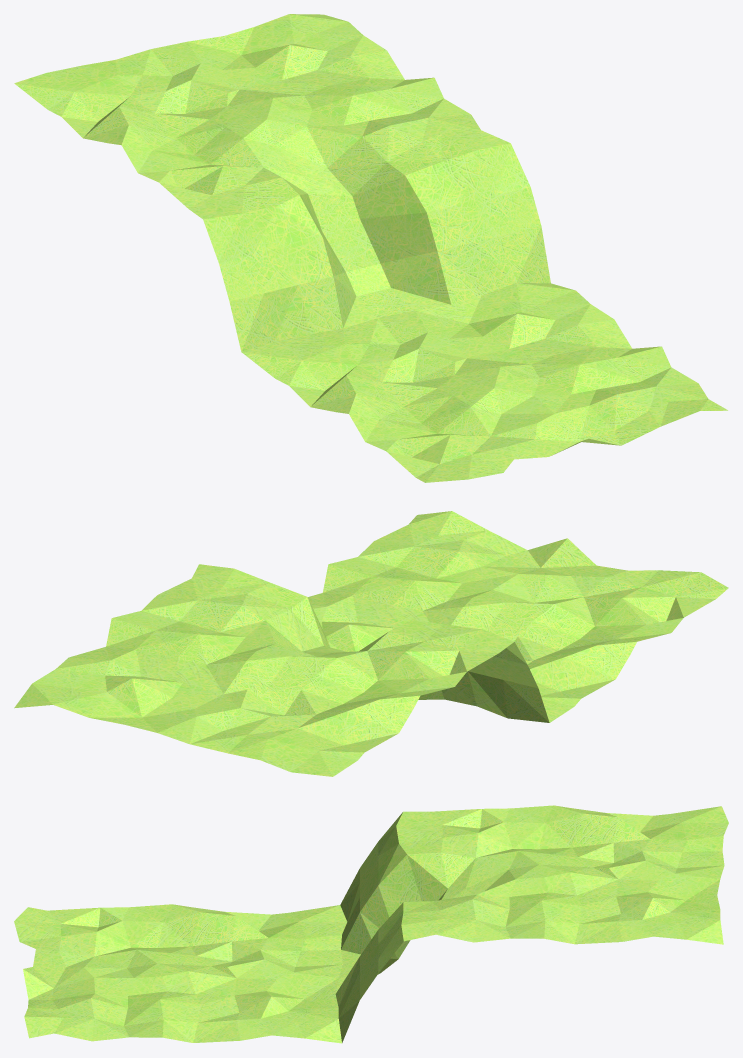
File: ground2.dae
3 views of the same model, one above another, from view 1: azimuth 30°, elevation 25°; view 2: azimuth 150°, elevation 25°; view 3: azimuth 270°, elevation 25° (orthographic). The views are drawn at different scales.
Visible parts, largest first — view 1: Grid; view 2: Grid; view 3: Grid.
Part boxes in pixels (x1,y1,x2,y2): Grid: [14, 14, 727, 482]; Grid: [14, 511, 728, 776]; Grid: [14, 805, 728, 1043].
Bounding box in the file's own units: 16.67 × 36.41 × 6.47.
Materials: 1 (1 with a texture image).
